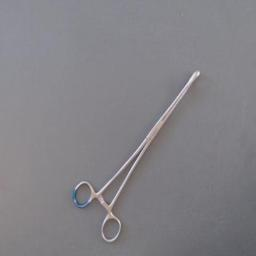Sponge Forceps: (68, 64, 204, 248)
